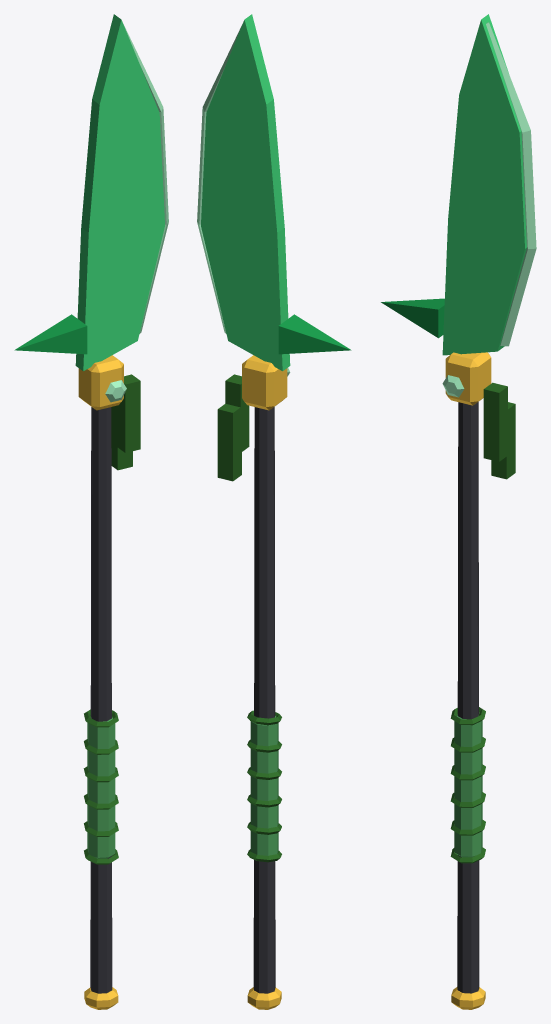
The model's file is EmeraldGlaive.fbx.
3 renders of one model, left to right at view 1: azimuth 30°, elevation 25°; view 2: azimuth 150°, elevation 25°; view 3: azimuth 330°, elevation 25°, orthographic.
Visible parts, largest first — view 1: EmeraldGlaive; view 2: EmeraldGlaive; view 3: EmeraldGlaive.
Boxes of the visible parts, x1,y1,x2,y2 form: EmeraldGlaive: (14,14,168,1009); EmeraldGlaive: (197,14,351,1009); EmeraldGlaive: (381,14,536,1009).
Bounding box in the file's own units: 1.42 × 8.62 × 0.46.
Materials: 1 (1 with a texture image).
